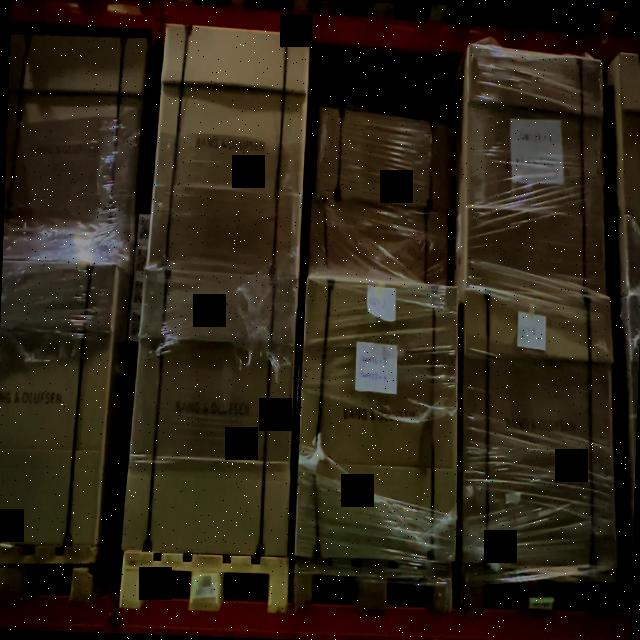box: (121, 273, 300, 555), (294, 280, 460, 560), (459, 287, 614, 561), (147, 24, 313, 276), (462, 44, 605, 296), (315, 105, 453, 209), (307, 197, 449, 285)
